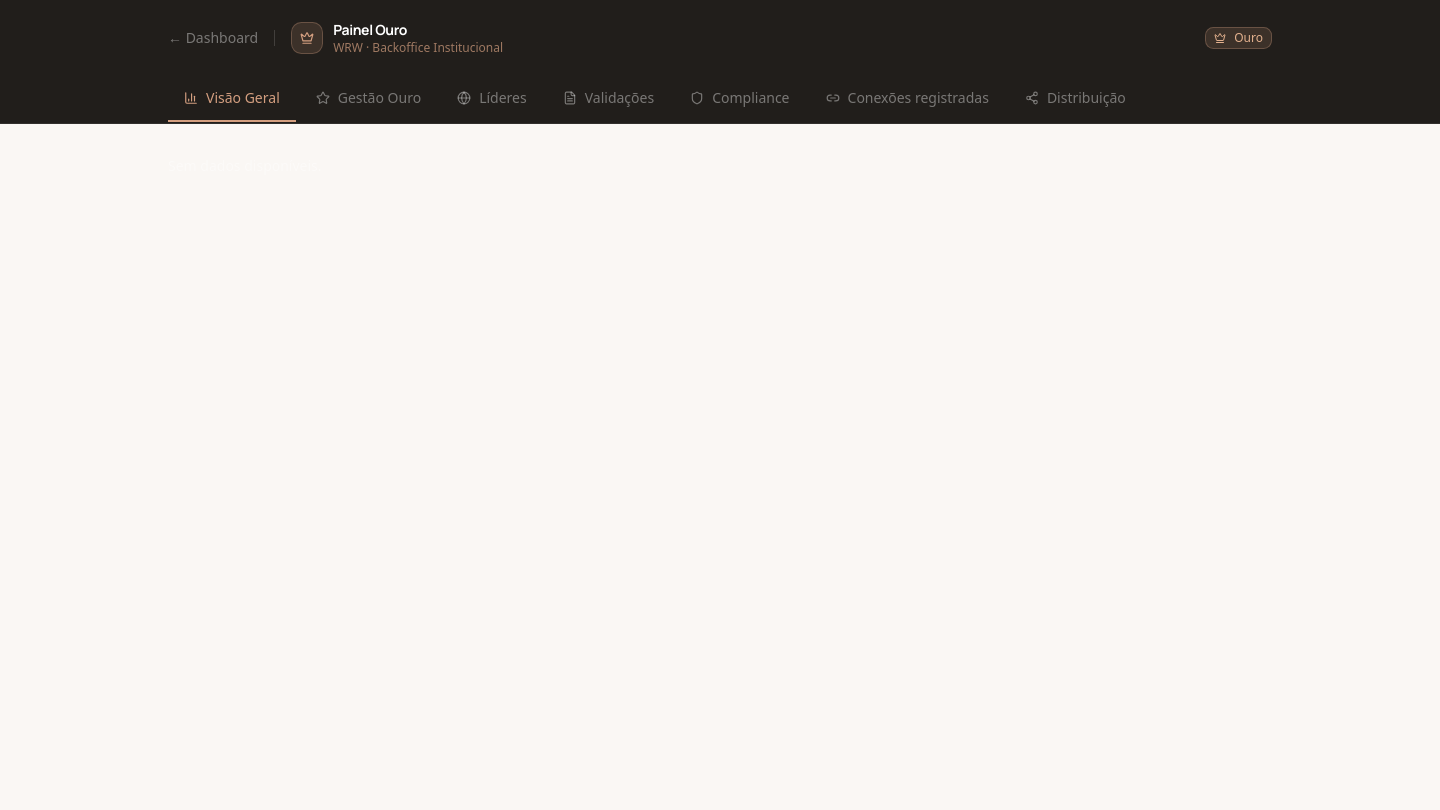
PresidentPanel — Gestão Ouro busca no servidor › quando o total passa da página, a tela avisa 'Mostrando N de total'
Click the button "Gestão Ouro".
click(368, 99)  # box x1=300 y1=76 x2=437 y2=122
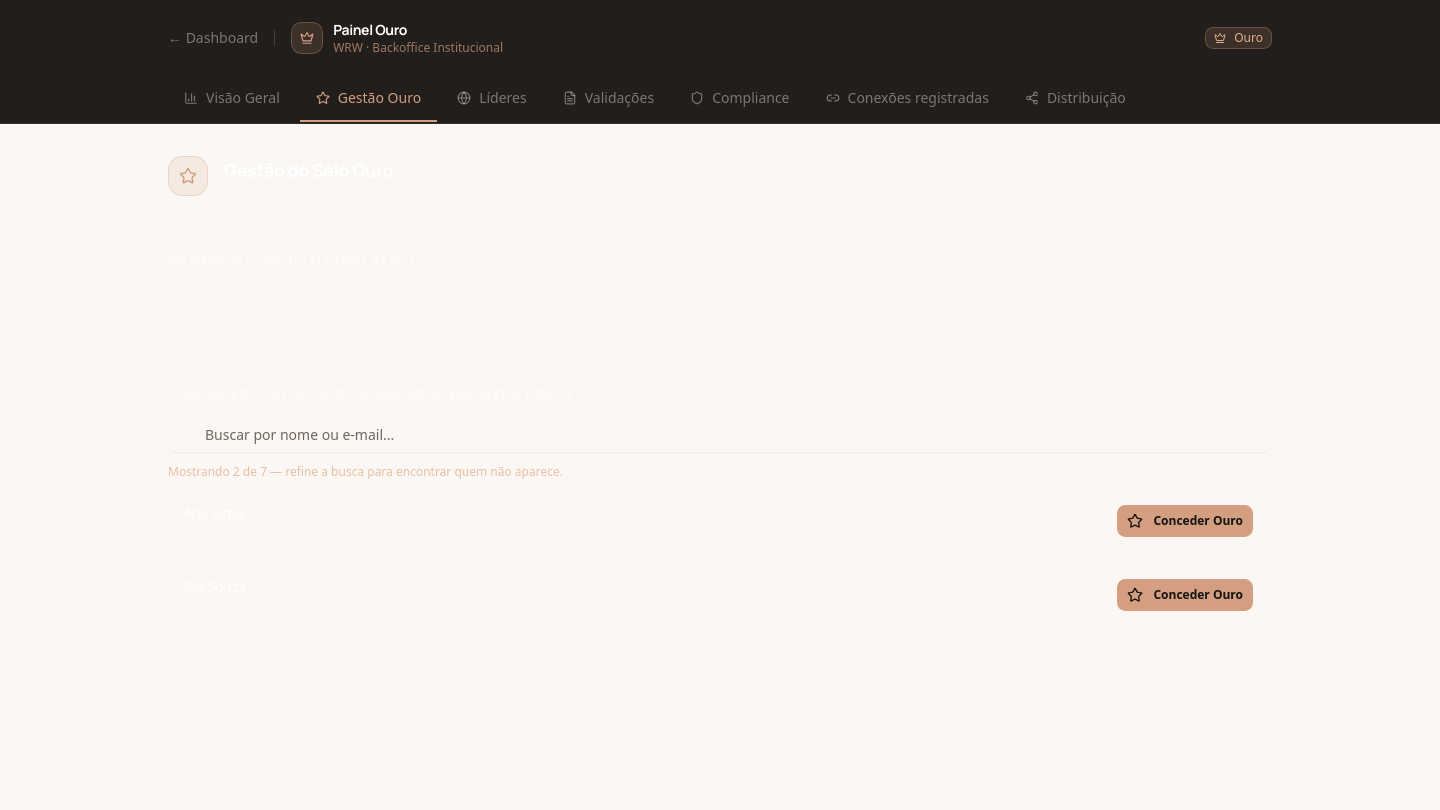
Result: the text "Mostrando 2 de 7" is shown at x1=168 y1=463 x2=563 y2=480
